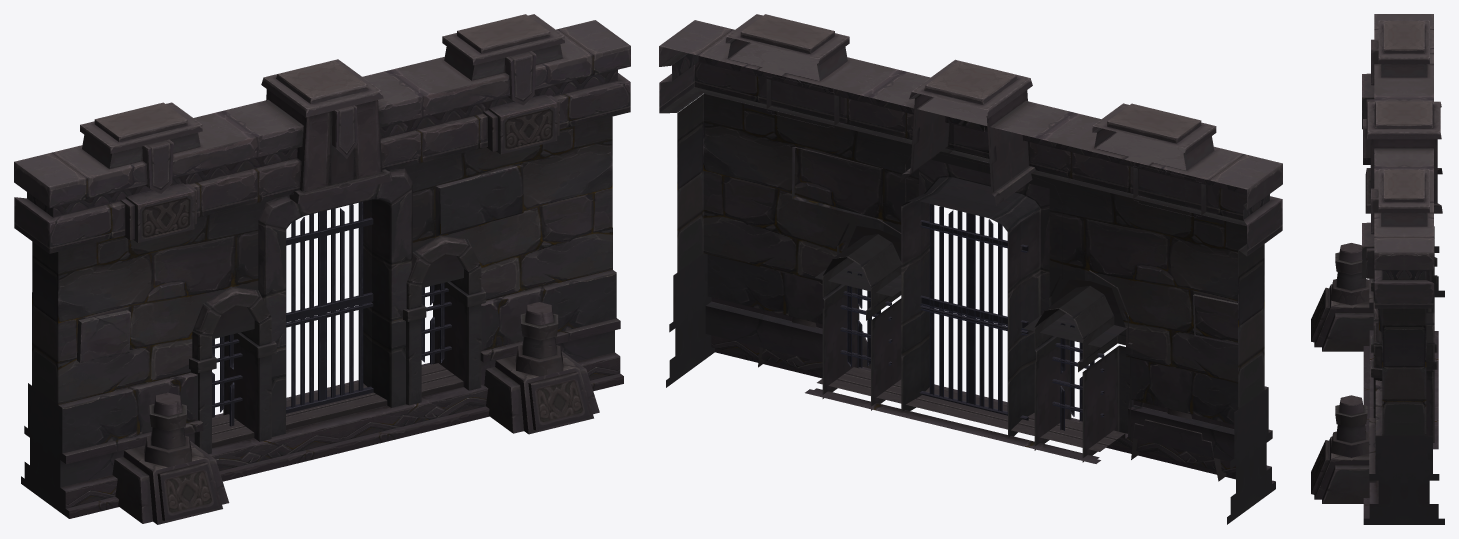
Rendered from fb_suoyt_jz_10.FBX.
The picture shows the model from 3 angles, left to right: view 1: azimuth 30°, elevation 25°; view 2: azimuth 150°, elevation 25°; view 3: azimuth 270°, elevation 25°; orthographic projection. The views are drawn at different scales.
Visible parts, largest first — view 1: fb_suoyt_jz_10; view 2: fb_suoyt_jz_10; view 3: fb_suoyt_jz_10.
Boxes of the visible parts, x1,y1,x2,y2 form: fb_suoyt_jz_10: (14,14,630,524); fb_suoyt_jz_10: (659,14,1282,524); fb_suoyt_jz_10: (1311,14,1444,524).
Size of the model in its own units: 4829 by 2843 by 1145.
